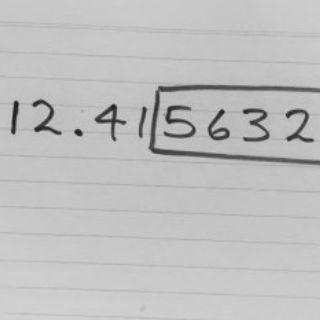.: (73, 125, 84, 139)
1: (7, 98, 22, 138), (136, 103, 148, 140)
2: (29, 94, 64, 138), (281, 105, 316, 147)
3: (240, 106, 271, 144)
4: (92, 99, 128, 144)
5: (161, 101, 199, 141)
6: (204, 105, 231, 142)
